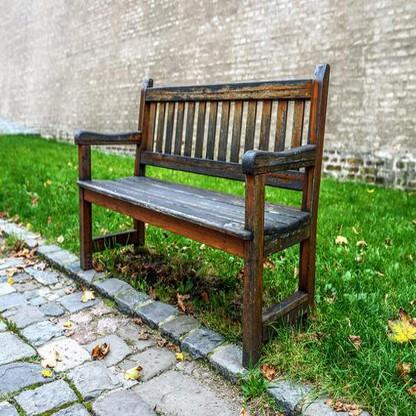obstacle: (39, 66, 353, 355)
